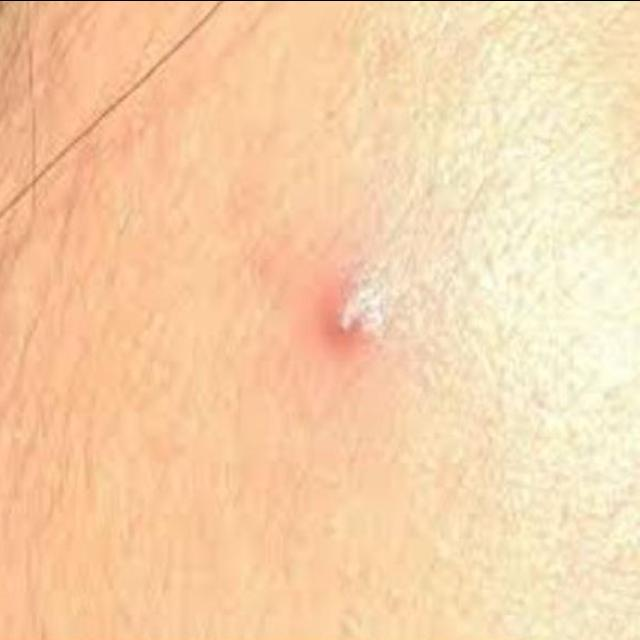pustule: (288, 241, 411, 395)
